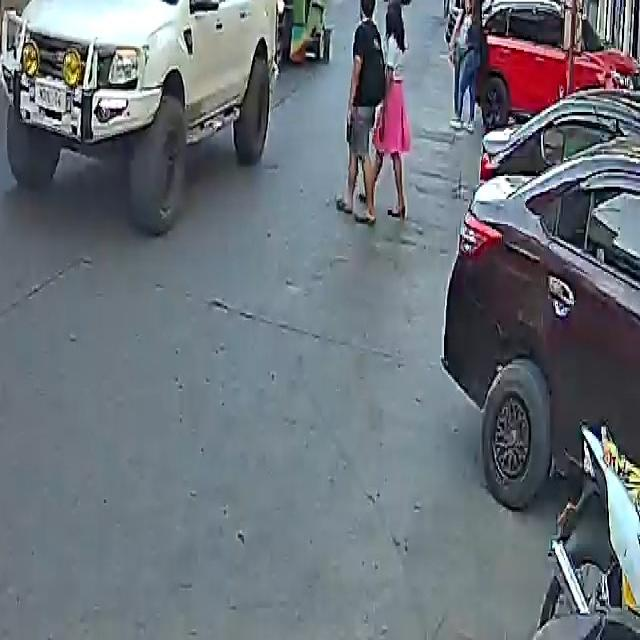car: (444, 68, 640, 531), (1, 0, 284, 236), (471, 0, 639, 128)
